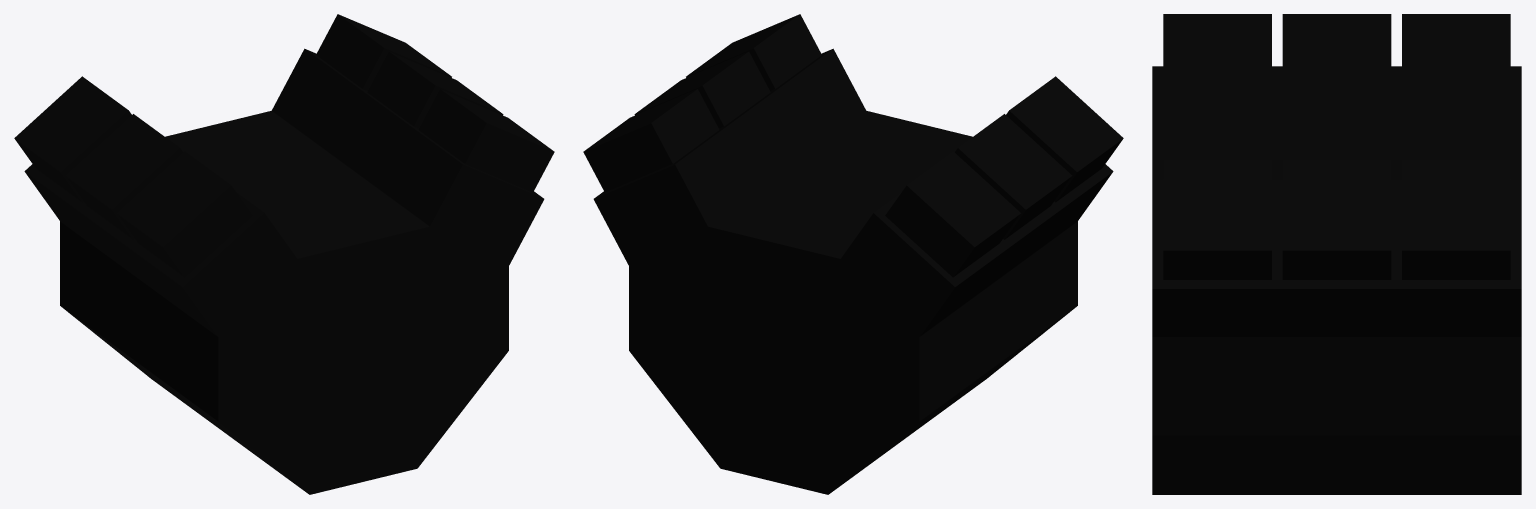
Rendered from v6torquelinelightmanual.obj.
3 views of the same model, side by side, from view 1: azimuth 30°, elevation 25°; view 2: azimuth 150°, elevation 25°; view 3: azimuth 270°, elevation 25° (orthographic). The views are drawn at different scales.
Visible parts, largest first — view 1: cube; view 2: cube; view 3: cube.
Boxes of the visible parts, x1,y1,x2,y2 form: cube: (14,14,554,494); cube: (583,14,1123,494); cube: (1152,14,1521,494).
Size of the model in its own units: 1.04 by 0.823 by 0.7287.
